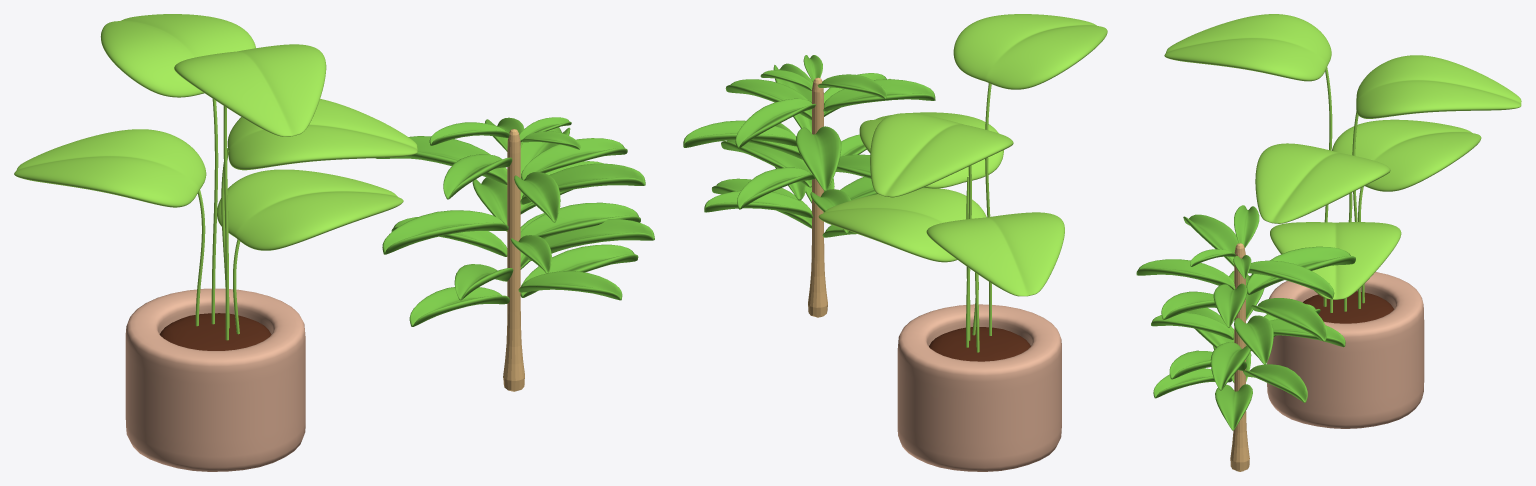
File: Plants001.fbx
3 renders of one model, left to right at view 1: azimuth 30°, elevation 25°; view 2: azimuth 150°, elevation 25°; view 3: azimuth 270°, elevation 25°, orthographic. The views are drawn at different scales.
Visible parts, largest first — view 1: Circle.067, Plane.084; view 2: Circle.067, Plane.084, Plane.089; view 3: Circle.067, Plane.084, Plane.089.
Boxes of the visible parts, bbox=[...] form: Circle.067: bbox=[14, 14, 417, 471]; Plane.084: bbox=[375, 117, 654, 391]; Circle.067: bbox=[818, 14, 1107, 471]; Plane.084: bbox=[704, 55, 935, 317]; Plane.089: bbox=[683, 120, 796, 147]; Circle.067: bbox=[1164, 14, 1521, 428]; Plane.084: bbox=[1136, 205, 1355, 471]; Plane.089: bbox=[1251, 298, 1327, 341].
Bounding box in the file's own units: 290 × 234 × 227.
